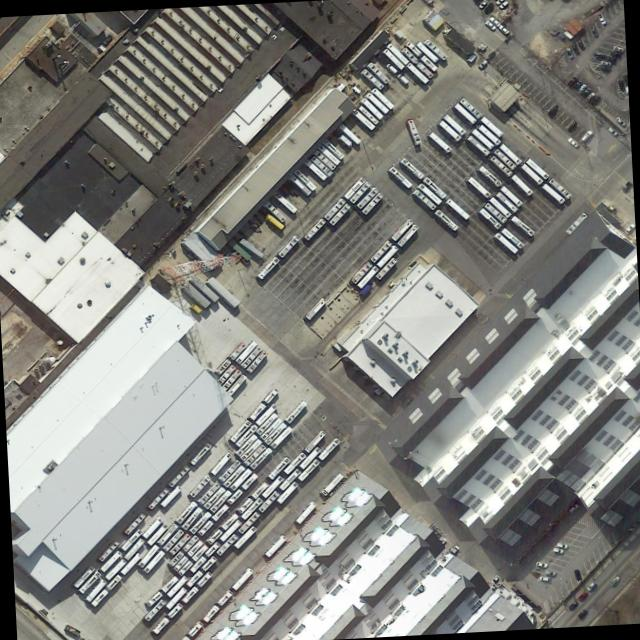large-vehicle: (205, 511, 238, 545), (225, 471, 258, 505), (184, 554, 217, 587), (89, 573, 122, 606), (188, 540, 220, 573), (236, 480, 268, 513), (196, 503, 228, 536), (214, 341, 246, 374), (144, 574, 178, 605), (176, 543, 208, 575), (167, 534, 199, 566), (151, 601, 182, 634), (181, 570, 212, 603), (248, 386, 278, 420), (172, 539, 203, 571), (202, 589, 232, 622), (255, 255, 280, 280), (271, 189, 297, 213), (349, 259, 373, 284), (389, 217, 413, 242), (266, 455, 290, 480), (269, 424, 293, 449), (141, 548, 165, 573), (373, 256, 397, 280), (327, 201, 351, 225), (232, 524, 256, 548), (248, 445, 272, 469), (77, 569, 101, 593), (395, 222, 418, 247), (360, 190, 383, 215), (355, 184, 378, 209), (433, 208, 458, 231), (358, 96, 383, 119), (363, 91, 388, 114), (422, 37, 447, 60), (398, 156, 423, 179), (234, 339, 257, 364), (234, 422, 257, 447), (145, 521, 168, 546), (375, 243, 398, 267), (368, 239, 391, 263), (347, 179, 370, 203), (342, 175, 365, 199), (292, 167, 316, 190), (356, 264, 379, 288), (239, 495, 262, 519), (218, 518, 241, 542), (214, 532, 237, 556), (230, 566, 253, 590), (296, 457, 319, 481), (317, 436, 340, 460), (388, 165, 412, 188), (497, 142, 521, 165), (445, 197, 469, 220), (524, 156, 548, 179), (487, 195, 511, 218), (369, 86, 393, 109), (478, 114, 502, 137), (457, 96, 481, 119), (202, 485, 225, 509), (208, 488, 231, 512), (217, 458, 240, 482), (208, 451, 231, 475), (188, 441, 211, 465), (238, 437, 262, 460), (229, 418, 252, 442), (263, 421, 286, 445), (284, 399, 307, 423), (136, 543, 159, 567), (188, 510, 211, 534), (174, 499, 197, 523), (294, 499, 316, 524), (491, 147, 516, 169), (476, 164, 501, 186), (465, 175, 490, 197), (509, 214, 534, 236), (476, 123, 501, 145), (180, 505, 202, 530), (302, 217, 325, 240), (262, 199, 285, 222), (320, 472, 343, 495), (237, 510, 260, 533), (260, 474, 283, 497), (282, 451, 305, 474), (385, 41, 408, 64), (442, 112, 465, 135), (254, 402, 277, 425), (71, 564, 94, 587), (158, 484, 181, 507), (140, 515, 163, 538), (564, 211, 587, 234), (323, 196, 345, 220), (276, 234, 298, 258), (287, 173, 311, 195), (303, 158, 327, 180), (316, 143, 340, 165), (298, 445, 320, 469), (276, 480, 298, 504), (264, 534, 286, 558), (351, 108, 375, 130), (422, 176, 446, 198), (417, 182, 441, 204), (412, 188, 436, 210), (488, 154, 512, 176), (519, 162, 543, 184), (498, 184, 522, 206), (493, 190, 517, 212), (482, 201, 506, 223), (494, 231, 518, 253), (540, 182, 564, 204), (380, 47, 404, 69), (452, 101, 476, 123), (437, 119, 461, 141), (164, 585, 186, 609), (229, 467, 251, 491), (222, 464, 244, 488), (84, 577, 106, 601), (120, 527, 142, 551), (499, 227, 524, 248), (337, 122, 360, 144), (309, 154, 332, 176), (312, 148, 335, 170), (257, 489, 279, 512), (303, 429, 325, 452), (278, 467, 300, 490), (509, 173, 532, 195), (466, 133, 489, 155), (366, 61, 389, 83), (405, 61, 428, 83), (239, 344, 261, 367), (143, 598, 165, 621), (165, 574, 187, 597), (234, 433, 257, 455), (188, 474, 210, 497), (255, 411, 277, 434), (259, 417, 281, 440), (103, 558, 126, 580), (122, 537, 144, 560), (156, 522, 178, 545), (97, 539, 119, 562), (123, 512, 145, 535), (304, 296, 325, 320), (547, 177, 571, 198), (469, 127, 493, 148), (427, 131, 451, 152), (414, 41, 438, 62), (478, 207, 500, 229), (243, 443, 265, 465), (168, 532, 190, 554), (119, 552, 141, 574), (99, 549, 121, 571), (320, 138, 343, 159), (360, 68, 383, 89), (220, 367, 241, 390), (245, 349, 266, 372), (198, 481, 219, 504), (162, 528, 183, 551), (147, 486, 168, 509), (179, 620, 203, 640), (225, 373, 246, 395), (168, 465, 189, 487), (356, 104, 378, 124), (215, 363, 235, 385), (405, 118, 421, 143), (419, 54, 437, 71), (415, 61, 433, 78), (401, 46, 417, 62), (405, 40, 421, 56)
small-vehicle: (578, 128, 593, 144), (482, 17, 497, 31), (565, 119, 578, 134), (445, 543, 460, 556), (565, 135, 579, 148), (465, 49, 478, 63), (497, 22, 510, 35), (487, 14, 501, 26), (475, 57, 488, 69), (584, 578, 596, 591), (596, 11, 607, 25), (569, 41, 580, 55), (605, 124, 617, 136), (609, 574, 621, 586), (587, 24, 598, 37), (576, 82, 587, 95), (574, 37, 585, 50), (579, 86, 591, 97), (614, 115, 625, 127), (584, 90, 595, 102), (576, 607, 588, 618), (566, 600, 577, 612), (623, 222, 634, 233), (566, 75, 577, 86), (548, 103, 558, 115), (572, 568, 581, 581), (577, 590, 587, 601), (609, 50, 621, 59), (564, 47, 573, 59), (611, 44, 623, 53), (555, 540, 567, 549), (617, 78, 625, 91), (534, 560, 547, 568), (498, 0, 509, 9), (599, 59, 611, 67), (543, 568, 555, 576), (551, 546, 563, 553), (490, 574, 499, 583), (477, 0, 487, 8), (494, 0, 503, 5), (538, 576, 549, 580), (77, 636, 85, 640)
